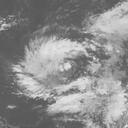cyclone: (13, 36, 89, 102)
